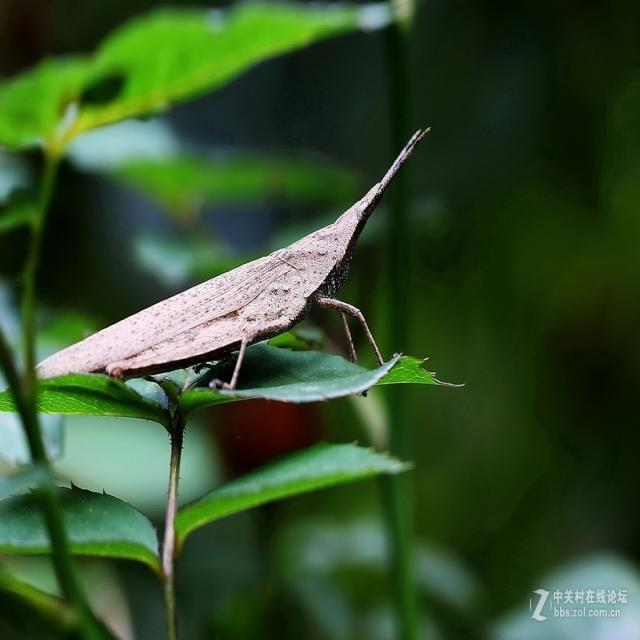ZhaMeng: (27, 126, 447, 400)
